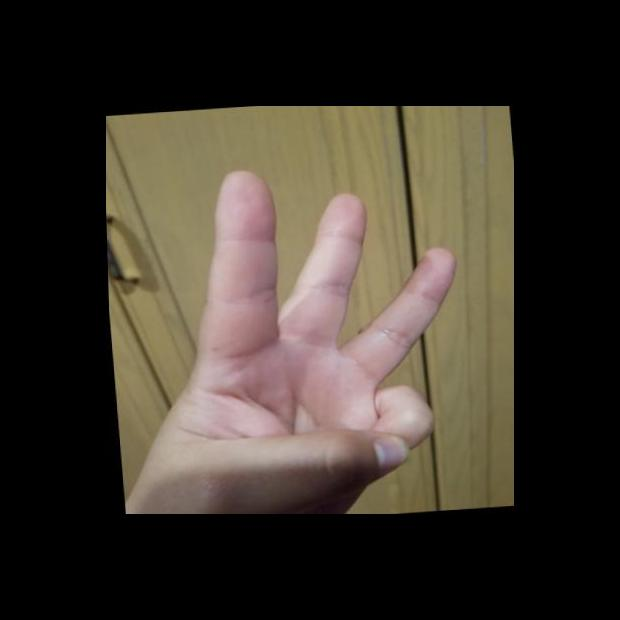V: (106, 151, 480, 513)
